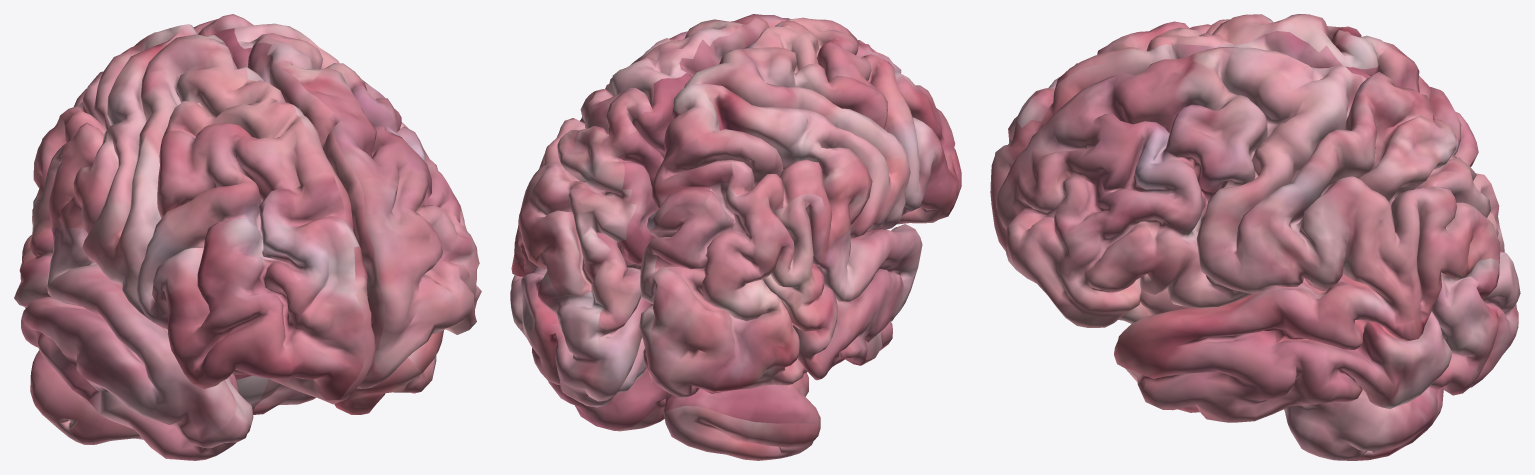
Rendered from brain.glb.
3 views of the same model, side by side, from view 1: azimuth 30°, elevation 25°; view 2: azimuth 150°, elevation 25°; view 3: azimuth 270°, elevation 25° (orthographic). The views are drawn at different scales.
Parts seen in each view (by area): view 1: model_5; view 2: model_5; view 3: model_5.
Boxes of the visible parts, x1,y1,x2,y2 form: model_5: (14, 14, 481, 460); model_5: (510, 14, 961, 460); model_5: (990, 14, 1520, 460).
Bounding box in the file's own units: 0.6522 × 0.6918 × 0.8628.
Materials: 1 (1 with a texture image).
